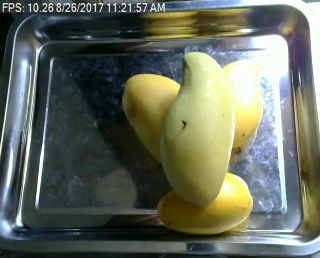Mango: (160, 50, 233, 205), (159, 171, 253, 234), (123, 74, 184, 161), (208, 58, 264, 147)
